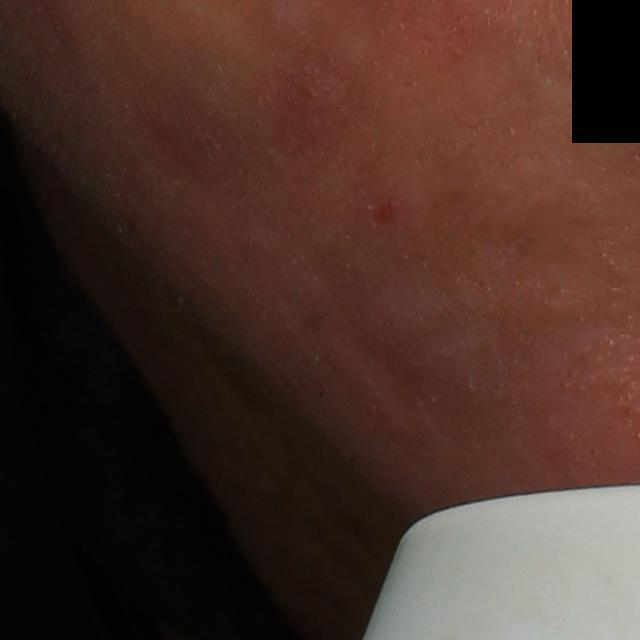nodule: (351, 286, 479, 417)
